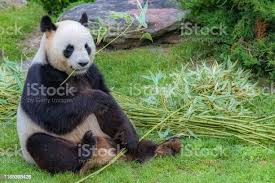panda: (10, 16, 155, 179)
